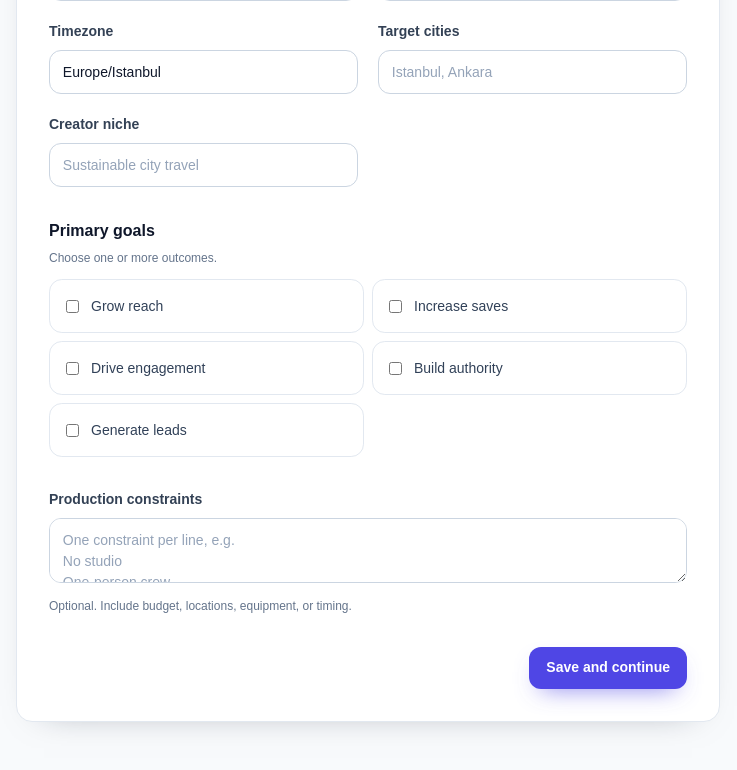
OnboardingForm › validates required creator context with accessible field errors
The image size is (737, 770).
(page scrolled)
Click the button "Save and continue": point(608, 668) [529, 647, 687, 689]
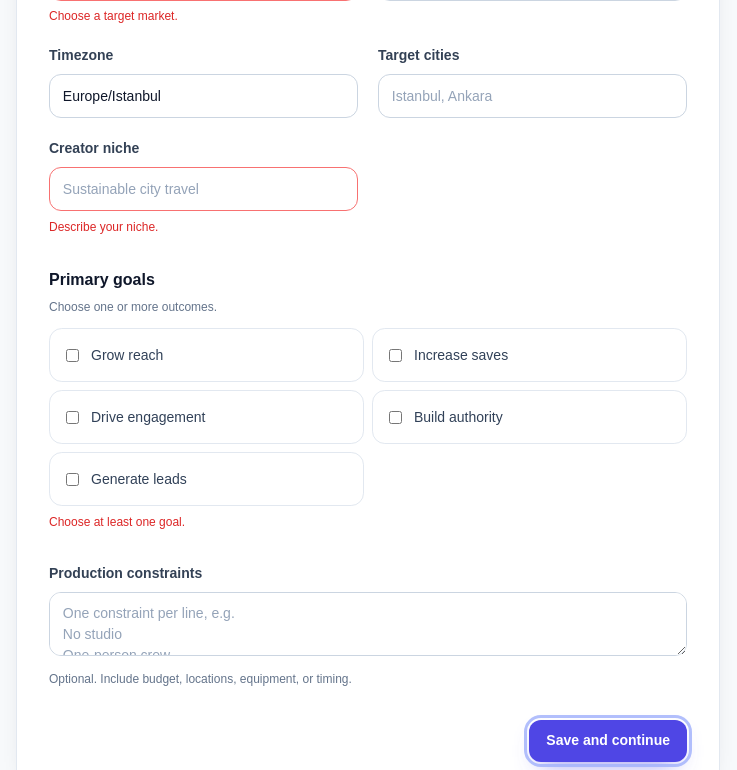
expect the text "Choose a target market." is shown: met, box [49, 9, 178, 23]
expect the text "Choose at least one goal." is shown: met, box [49, 515, 185, 529]
